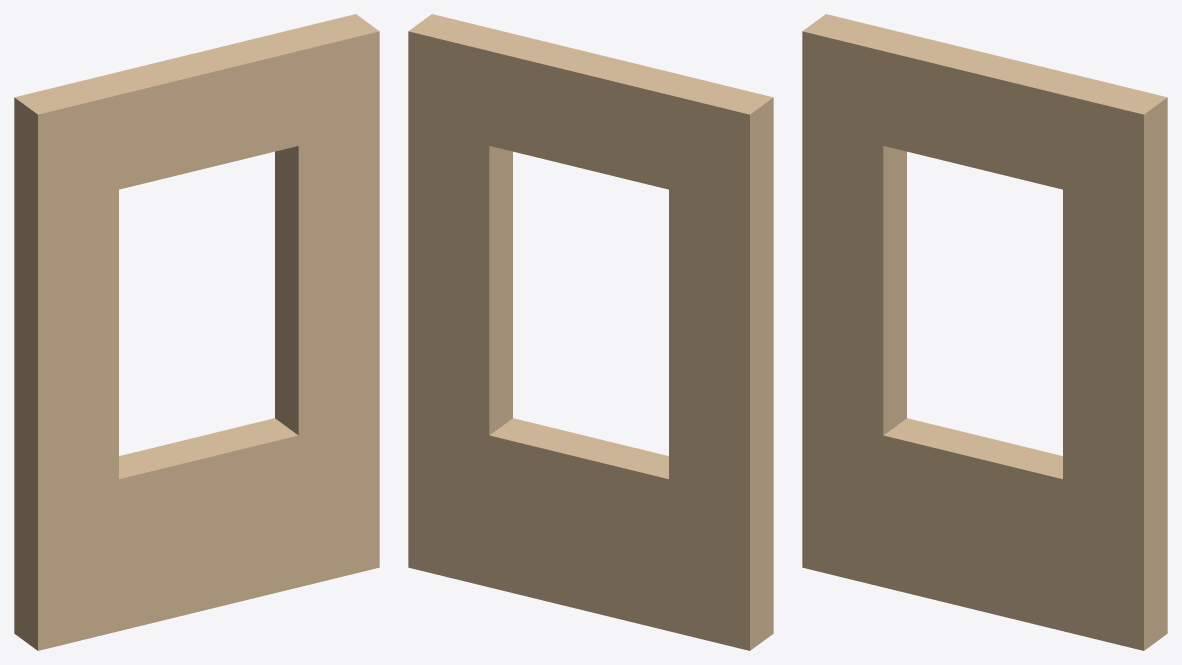
Rendered from HouseWindowBay2m.fbx.
The picture shows the model from 3 angles, left to right: view 1: azimuth 30°, elevation 25°; view 2: azimuth 150°, elevation 25°; view 3: azimuth 330°, elevation 25°; orthographic projection.
Parts seen in each view (by area): view 1: Shell; view 2: Shell; view 3: Shell.
Boxes of the visible parts, x1,y1,x2,y2 form: Shell: (14, 14, 379, 650); Shell: (408, 14, 773, 650); Shell: (802, 14, 1167, 650).
Bounding box in the file's own units: 2 × 3 × 0.24.
